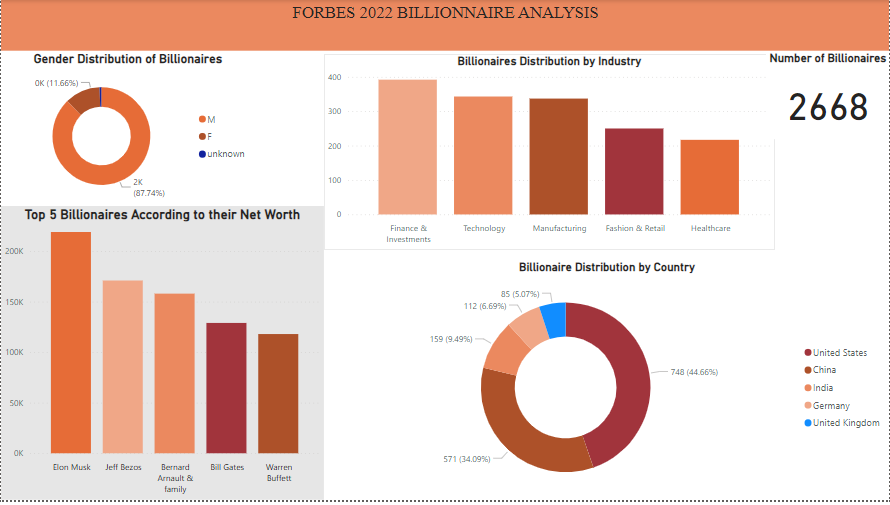

This screenshot's page, from the dashboard's own definition file:
{"tool":"powerbi","page":{"name":"Page 1","canvas":[1280,720],"ordinal":0},"visuals":[{"type":"textbox","box":[0,0,1280.2,73.4],"z":0},{"type":"donutChart","title":"Gender Distribution of Billionaires","fields":{"Category":["Gender.Column1"],"Y":["Gender.Column2"]},"box":[0,73.4,365.8,223.2],"z":1},{"type":"clusteredColumnChart","title":"Top 5 Billionaires According to their Net Worth","fields":{"Category":["TOP5.Column1"],"Y":["TOP5.Column2"]},"box":[0,296.6,465.1,423.4],"z":2},{"type":"clusteredColumnChart","title":"Billionaires Distribution by Industry","fields":{"Category":["BillionairesbyIndustry.Column1"],"Y":["BillionairesbyIndustry.Column2"]},"box":[465.1,77.8,649.4,282.2],"z":3},{"type":"card","title":"Number of  Billionaires","fields":{"Values":["countOFbillionaires.Column1"]},"box":[1101.6,73.4,178.6,126.7],"z":4},{"type":"donutChart","title":"Billionaire Distribution by Country","fields":{"Category":["BillionairesPerCountry.Column1"],"Y":["BillionairesPerCountry.Column2"]},"box":[465.1,374.4,815,345.6],"z":5}]}

Visuals, with their boxes in screenshot pixels (x1, y1, x2, y2), scaled from the page's 1280x720 canvas onto the 890x505 screenshot:
textbox: {"left": 0, "top": 0, "right": 889, "bottom": 51}
"Gender Distribution of Billionaires" donutChart: {"left": 0, "top": 51, "right": 254, "bottom": 208}
"Top 5 Billionaires According to their Net Worth" clusteredColumnChart: {"left": 0, "top": 208, "right": 323, "bottom": 504}
"Billionaires Distribution by Industry" clusteredColumnChart: {"left": 323, "top": 55, "right": 775, "bottom": 252}
"Number of  Billionaires" card: {"left": 766, "top": 51, "right": 889, "bottom": 140}
"Billionaire Distribution by Country" donutChart: {"left": 323, "top": 263, "right": 889, "bottom": 504}
